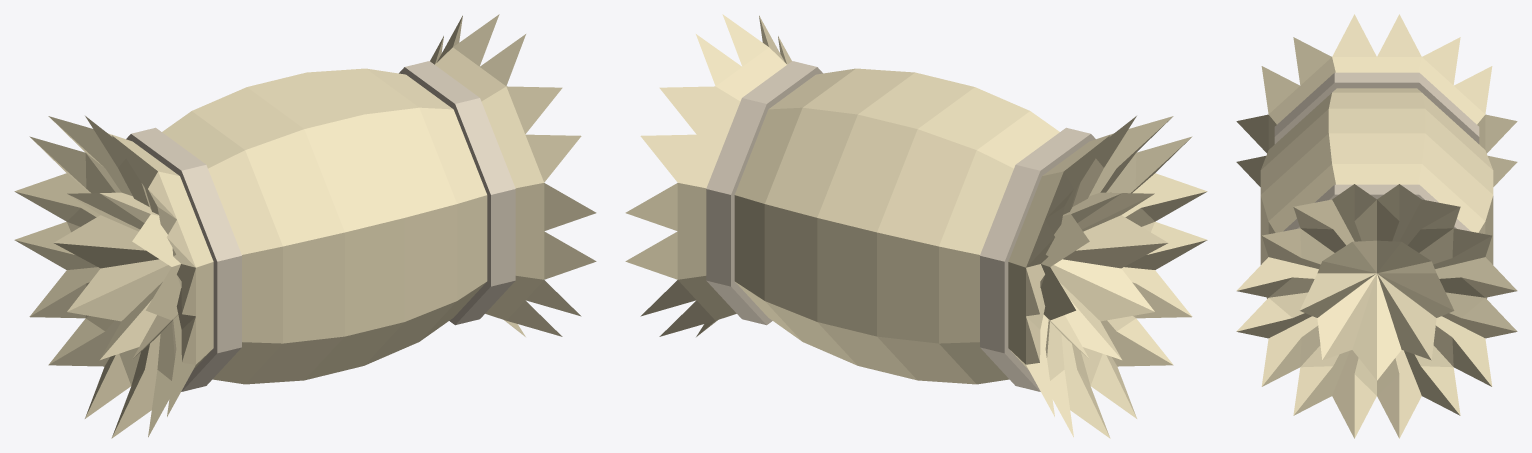
File: Prop_Hay_1.glb
The picture shows the model from 3 angles, left to right: view 1: azimuth 30°, elevation 25°; view 2: azimuth 150°, elevation 25°; view 3: azimuth 270°, elevation 25°; orthographic projection. The views are drawn at different scales.
Visible parts, largest first — view 1: object1; view 2: object1; view 3: object1.
Part boxes in pixels (left/top/right/bottom): object1: left=14, top=14, right=596, bottom=438; object1: left=625, top=14, right=1207, bottom=438; object1: left=1236, top=14, right=1517, bottom=438.
Size of the model in its own units: 0.8342 by 0.5842 by 0.5842.
